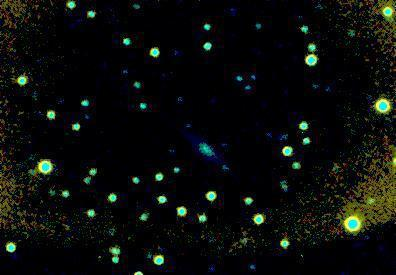star: (155, 58, 185, 88)
